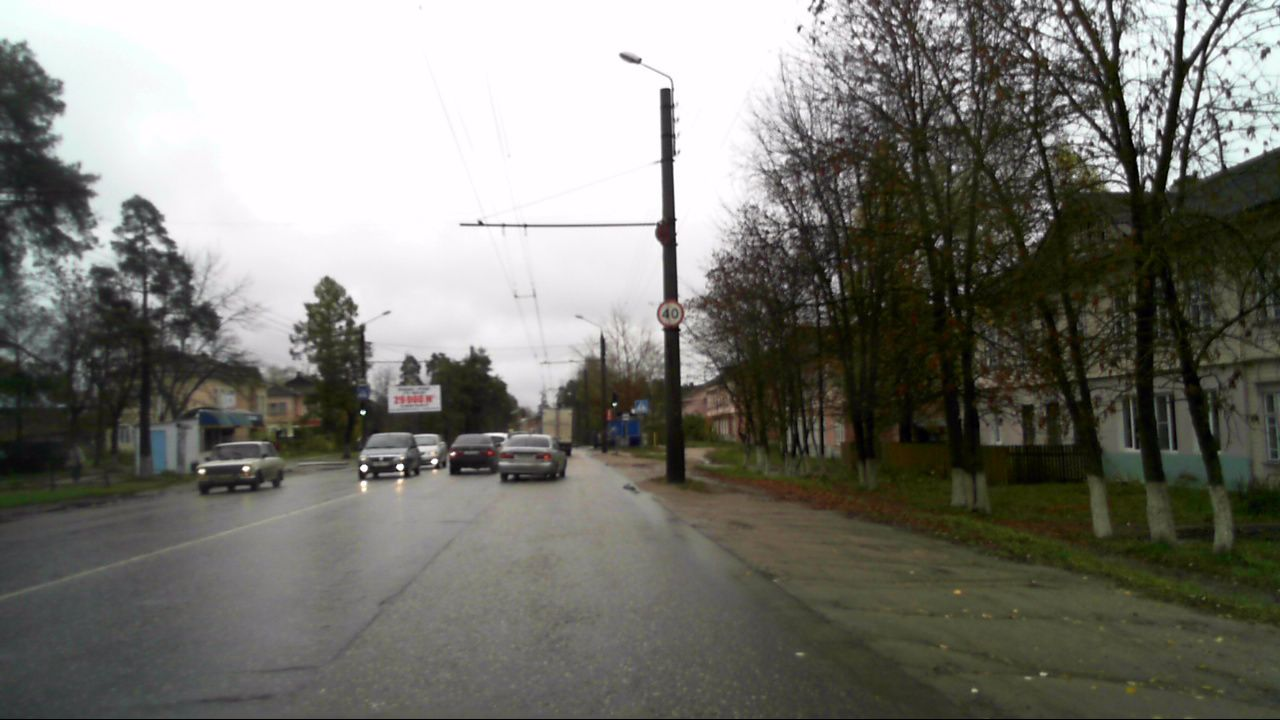speed_warning_40: (656, 299, 685, 328)
